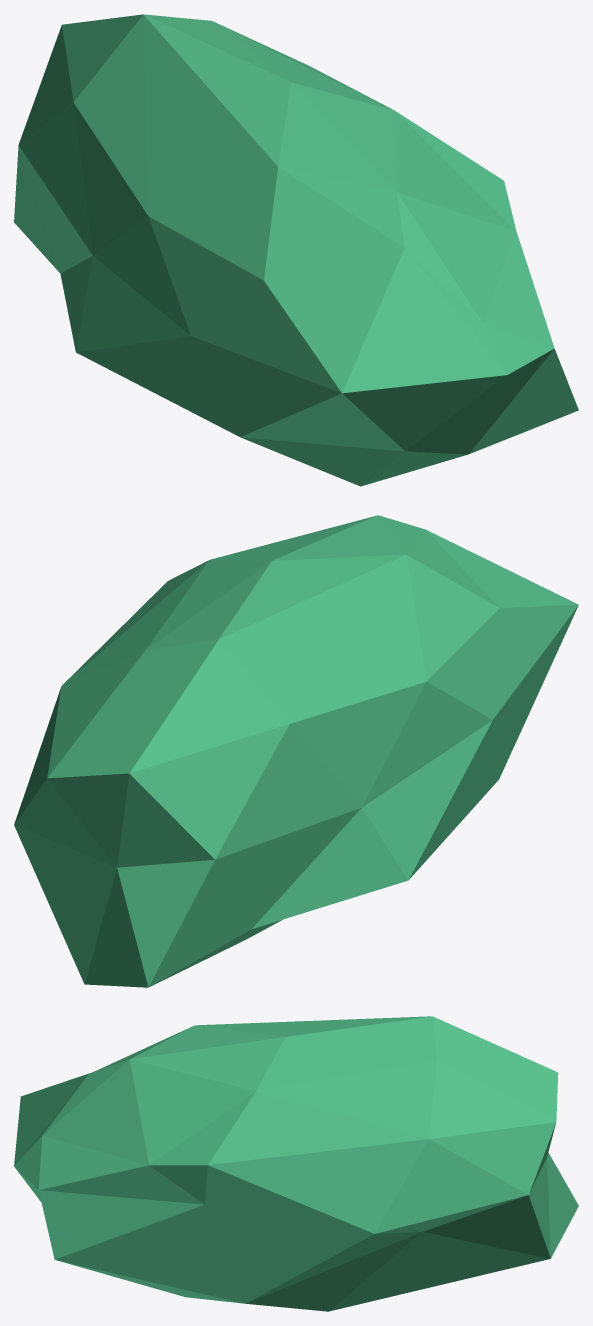
Rendered from Bushes 03.fbx.
The picture shows the model from 3 angles, top to bottom: view 1: azimuth 30°, elevation 25°; view 2: azimuth 150°, elevation 25°; view 3: azimuth 270°, elevation 25°; orthographic projection. The views are drawn at different scales.
Visible parts, largest first — view 1: Icosphere; view 2: Icosphere; view 3: Icosphere.
Part boxes in pixels (left/top/right/bottom): Icosphere: left=14, top=14, right=578, bottom=486; Icosphere: left=14, top=515, right=578, bottom=987; Icosphere: left=14, top=1016, right=578, bottom=1311.
Size of the model in its own units: 205 by 197 by 397.
